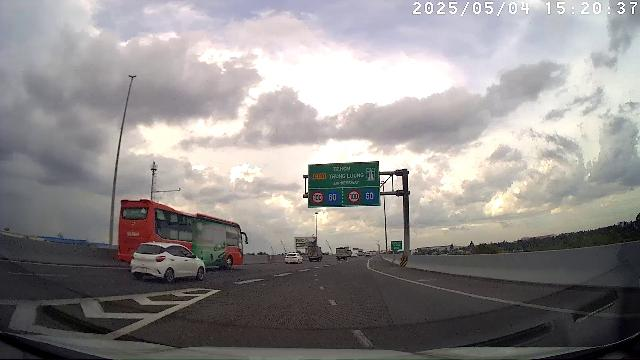127-toc-do-toi-da-100: (346, 188, 362, 203), (310, 190, 325, 204)
306-toc-do-toi-thieu-60: (363, 188, 378, 203), (326, 190, 340, 205)
437-bat-dau-duong-cao-toc: (366, 166, 376, 182)
